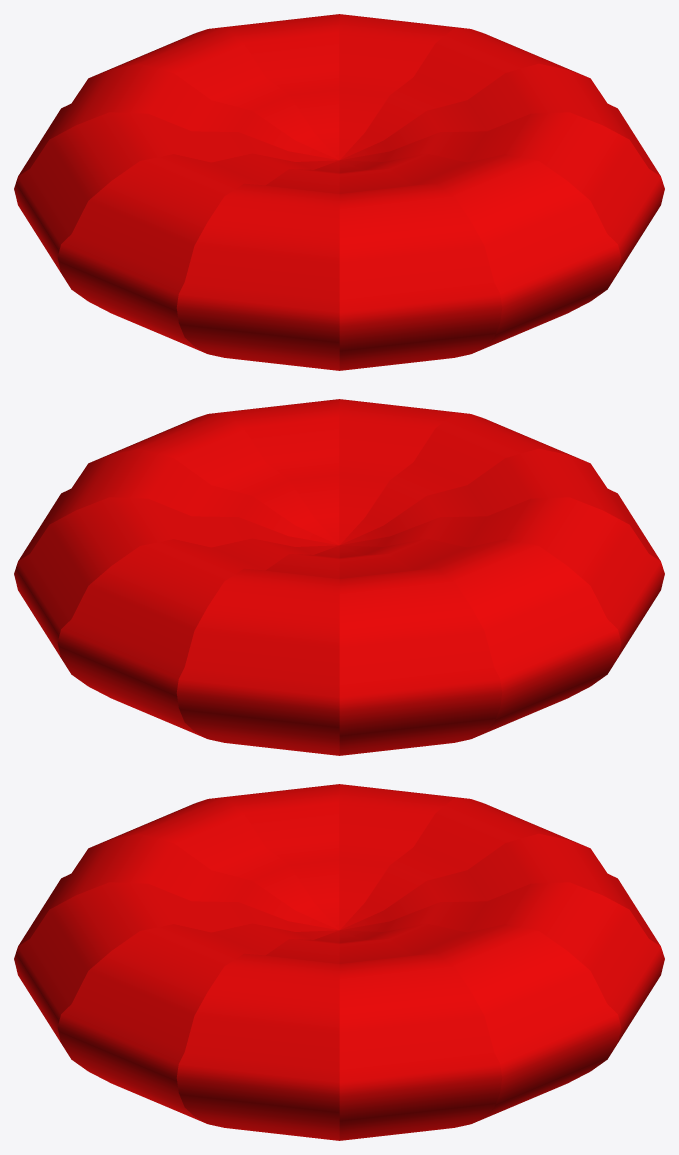
The model's file is Cushion.fbx.
The picture shows the model from 3 angles, top to bottom: view 1: azimuth 30°, elevation 25°; view 2: azimuth 150°, elevation 25°; view 3: azimuth 270°, elevation 25°; orthographic projection.
Parts seen in each view (by area): view 1: Cushion; view 2: Cushion; view 3: Cushion.
Part boxes in pixels (x1,y1,x2,y2): Cushion: (14, 14, 664, 370); Cushion: (14, 399, 664, 755); Cushion: (14, 784, 664, 1140).
Bounding box in the file's own units: 200 × 61.52 × 200.
